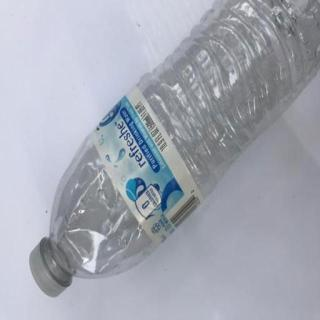Plastic-bottle: (29, 1, 320, 299)
